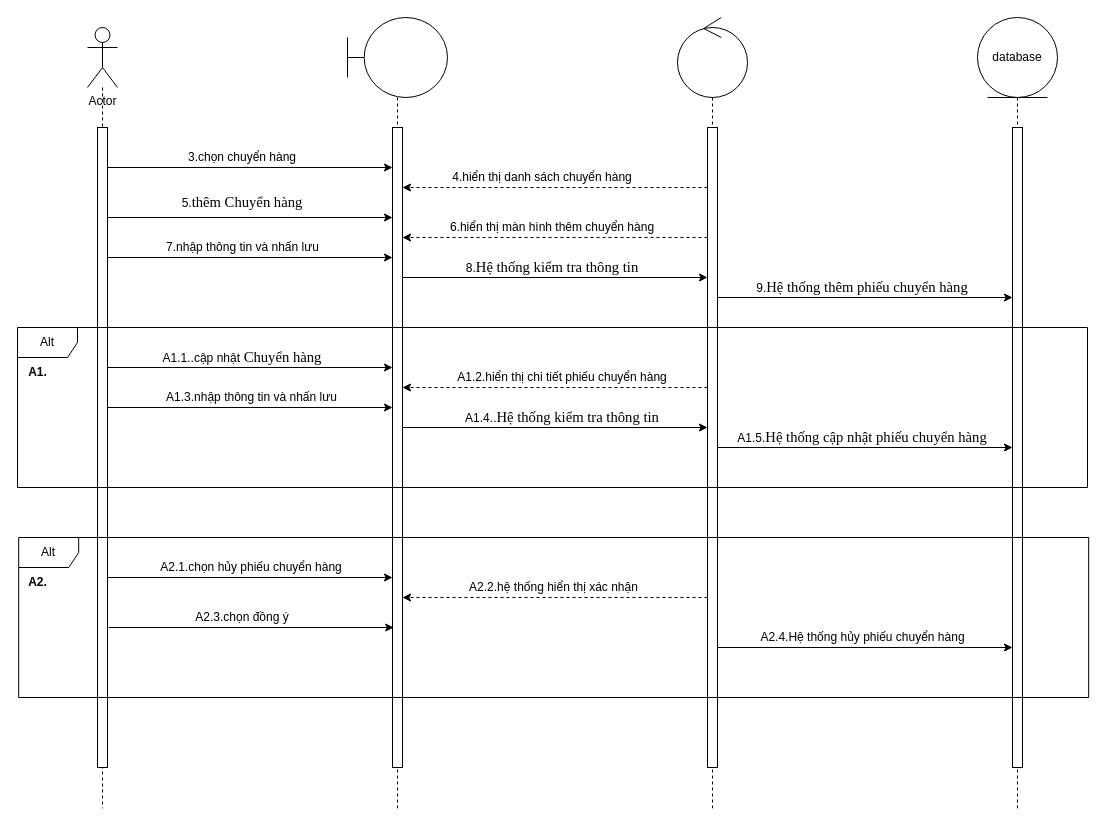
The diagram is 1107 pixels wide and 827 high, and some of its shapes have lost their labels. The box of each missing label's shape, as (x1, y1, x2, y2) in pixels:
Chuyển hàng: (346, 16, 448, 98)
xử lý: (676, 16, 748, 98)
